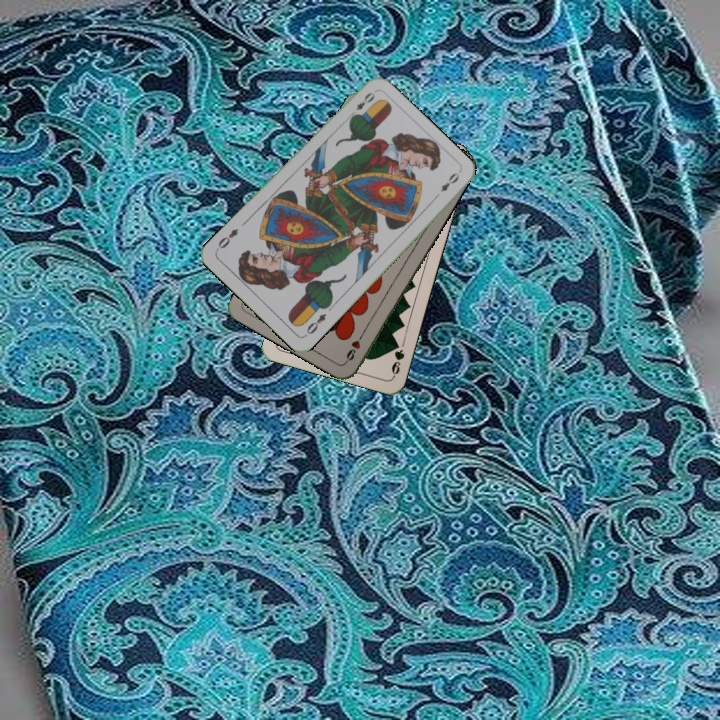EO: (345, 88, 377, 121), (301, 309, 329, 339)
G9: (387, 338, 407, 379)
H9: (342, 328, 367, 365)
